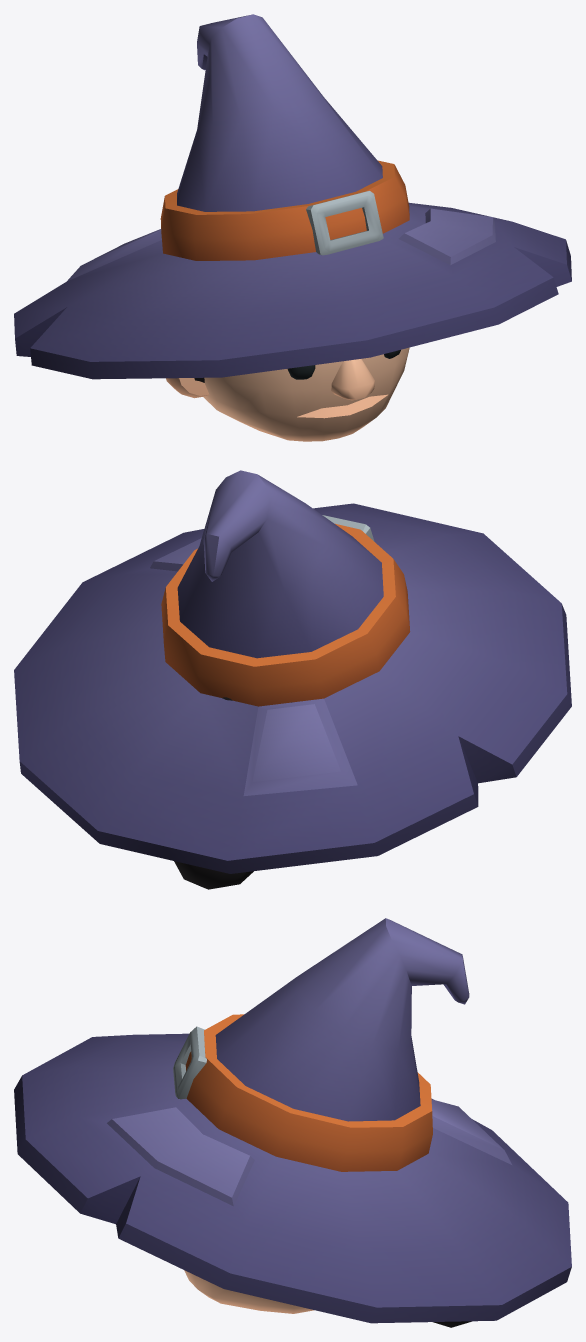
File: magehead.glb
The picture shows the model from 3 angles, top to bottom: view 1: azimuth 30°, elevation 25°; view 2: azimuth 150°, elevation 25°; view 3: azimuth 270°, elevation 25°; orthographic projection. The views are drawn at different scales.
Parts seen in each view (by area): view 1: Mage_Head; view 2: Mage_Head; view 3: Mage_Head.
Boxes of the visible parts, box(x1,y1,x2,y2) form: Mage_Head: box(14, 14, 571, 441); Mage_Head: box(14, 470, 571, 889); Mage_Head: box(14, 918, 571, 1327).
Size of the model in its own units: 0.7359 by 0.572 by 0.7183.
1 material, 1 textured.
